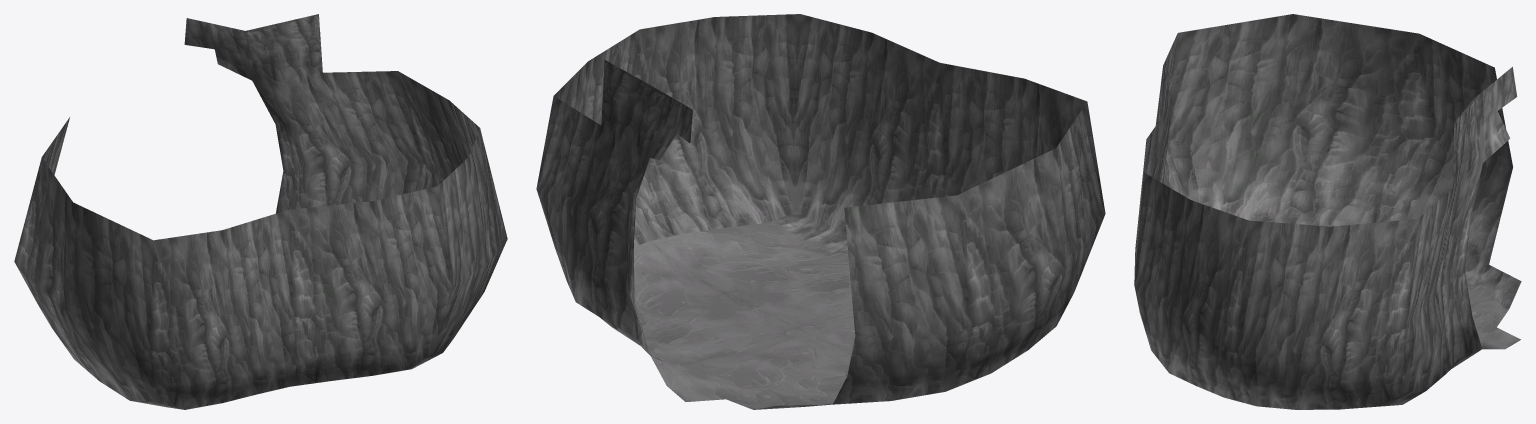
Rendered from SWORDLIGHT20_PS-AREA02-03TRANS_02.fbx.
3 views of the same model, side by side, from view 1: azimuth 30°, elevation 25°; view 2: azimuth 150°, elevation 25°; view 3: azimuth 270°, elevation 25° (orthographic). The views are drawn at different scales.
Parts seen in each view (by area): view 1: SWORDLIGHT20_PS-AREA02-03TRANS_02; view 2: SWORDLIGHT20_PS-AREA02-03TRANS_02; view 3: SWORDLIGHT20_PS-AREA02-03TRANS_02.
Part boxes in pixels (x1,y1,x2,y2): SWORDLIGHT20_PS-AREA02-03TRANS_02: [14, 14, 507, 409]; SWORDLIGHT20_PS-AREA02-03TRANS_02: [536, 14, 1105, 409]; SWORDLIGHT20_PS-AREA02-03TRANS_02: [1134, 14, 1521, 409].
Bounding box in the file's own units: 232729 × 133992 × 172859.
3 materials, 3 textured.
